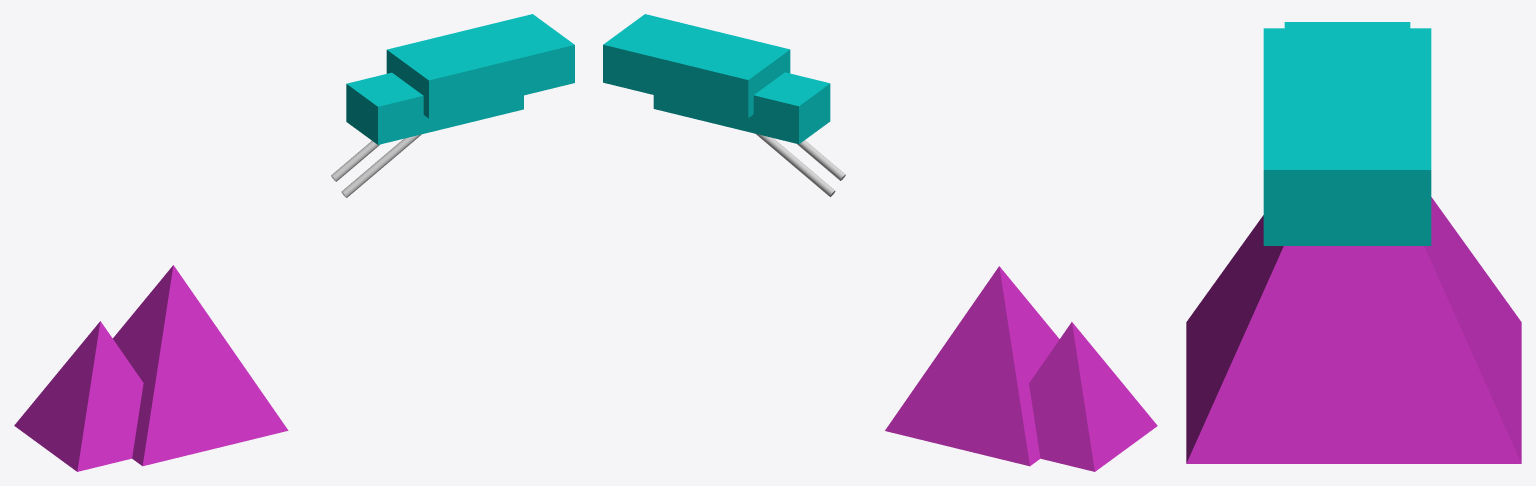
File: mountain_docking.fbx
3 views of the same model, side by side, from view 1: azimuth 30°, elevation 25°; view 2: azimuth 150°, elevation 25°; view 3: azimuth 270°, elevation 25° (orthographic). The views are drawn at different scales.
Visible parts, largest first — view 1: Plane.001; view 2: Plane.001; view 3: Plane.001.
Part boxes in pixels (x1,y1,x2,y2): Plane.001: [14, 14, 574, 471]; Plane.001: [603, 14, 1157, 471]; Plane.001: [1186, 22, 1521, 463].
Bounding box in the file's own units: 694 × 390 × 200.
